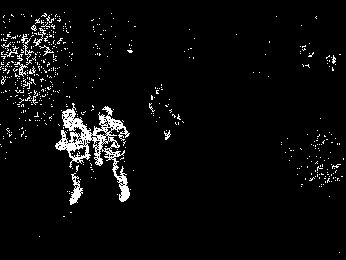person: (92, 105, 132, 205), (55, 108, 93, 205)
